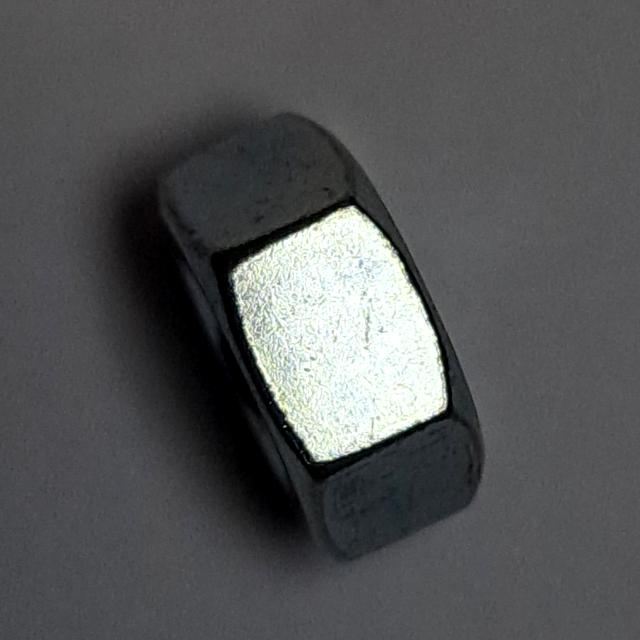Side_Excellent: (139, 96, 501, 579)
